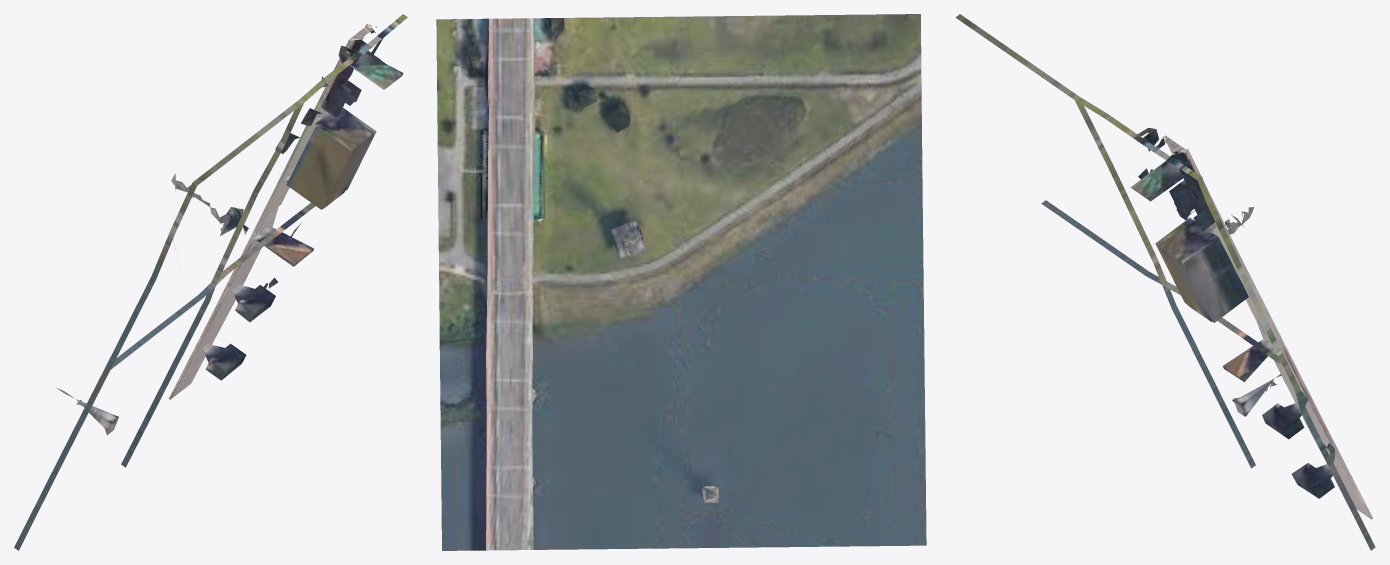
3 views of the same model, side by side, from view 1: azimuth 30°, elevation 25°; view 2: azimuth 150°, elevation 25°; view 3: azimuth 270°, elevation 25° (orthographic). The views are drawn at different scales.
Bounding box in the file's own units: 303 × 284 × 255.
1 material, 1 textured.
